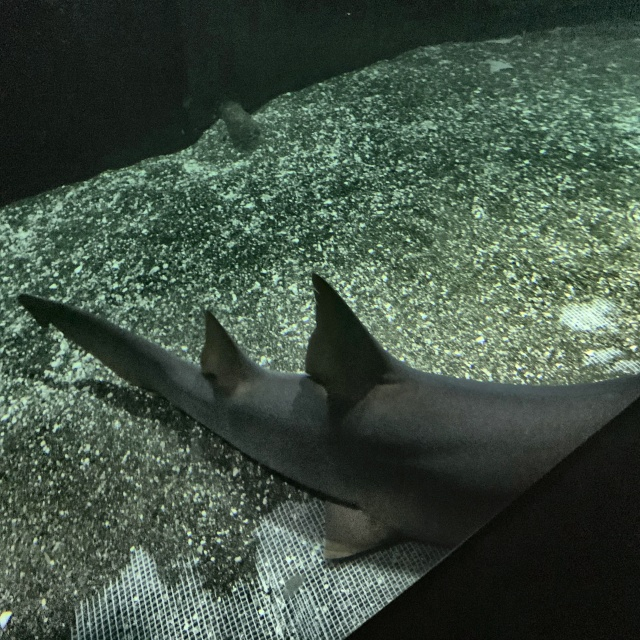shark: (17, 270, 639, 562)
